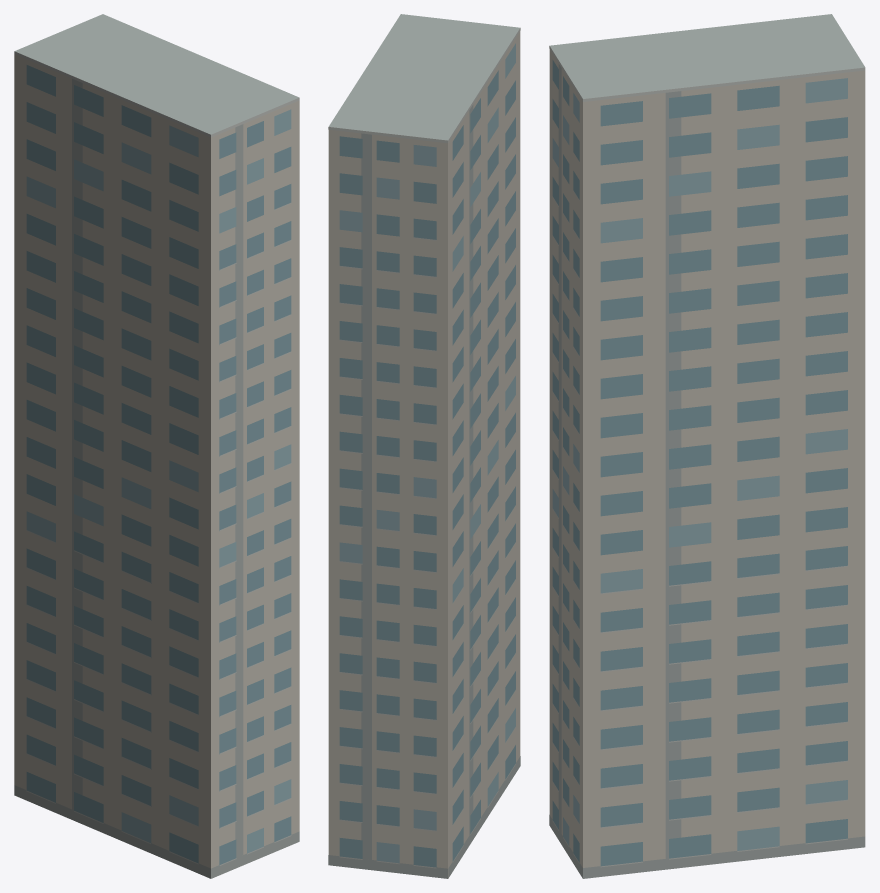
File: residential-8b20107b-4b9f-45fc-b8c9-5f5a6c13f8f4.glb
The picture shows the model from 3 angles, left to right: view 1: azimuth 30°, elevation 25°; view 2: azimuth 150°, elevation 25°; view 3: azimuth 270°, elevation 25°; orthographic projection. The views are drawn at different scales.
Visible parts, largest first — view 1: residential-8b20107b-4b9f-45fc-b8c9-5f5a6c13f8f4.tmp; view 2: residential-8b20107b-4b9f-45fc-b8c9-5f5a6c13f8f4.tmp; view 3: residential-8b20107b-4b9f-45fc-b8c9-5f5a6c13f8f4.tmp.
Boxes of the visible parts, x1,y1,x2,y2 form: residential-8b20107b-4b9f-45fc-b8c9-5f5a6c13f8f4.tmp: [14, 14, 299, 878]; residential-8b20107b-4b9f-45fc-b8c9-5f5a6c13f8f4.tmp: [328, 14, 520, 878]; residential-8b20107b-4b9f-45fc-b8c9-5f5a6c13f8f4.tmp: [549, 14, 865, 878].
Bounding box in the file's own units: 14.99 × 64 × 23.51.
